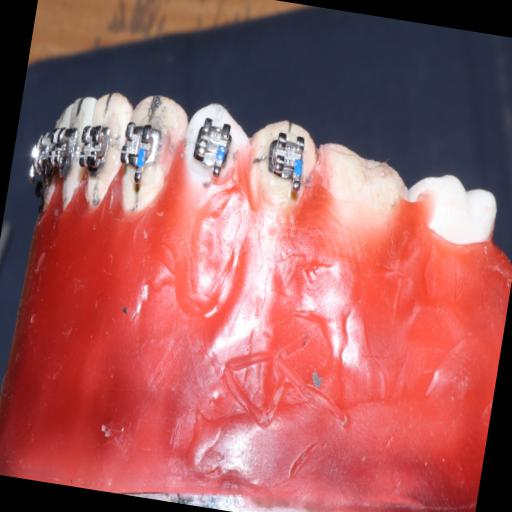correct_brace: (178, 98, 252, 196)
incorrect_brace: (192, 116, 233, 168)
